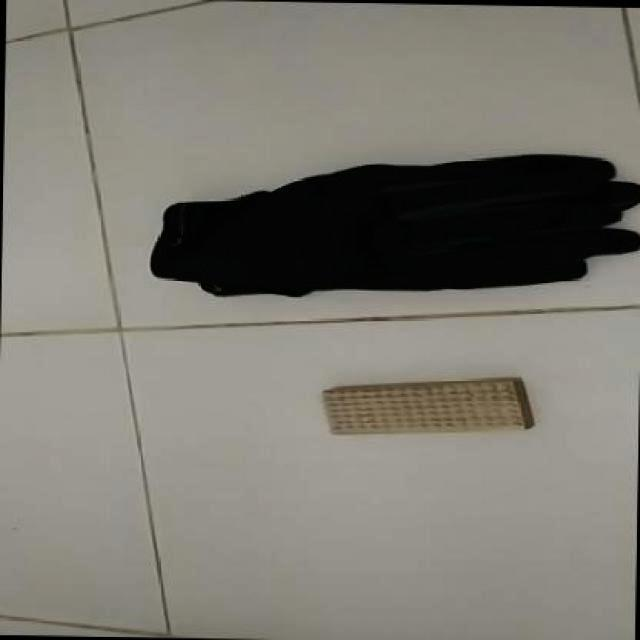Gloves: (149, 150, 638, 299)
